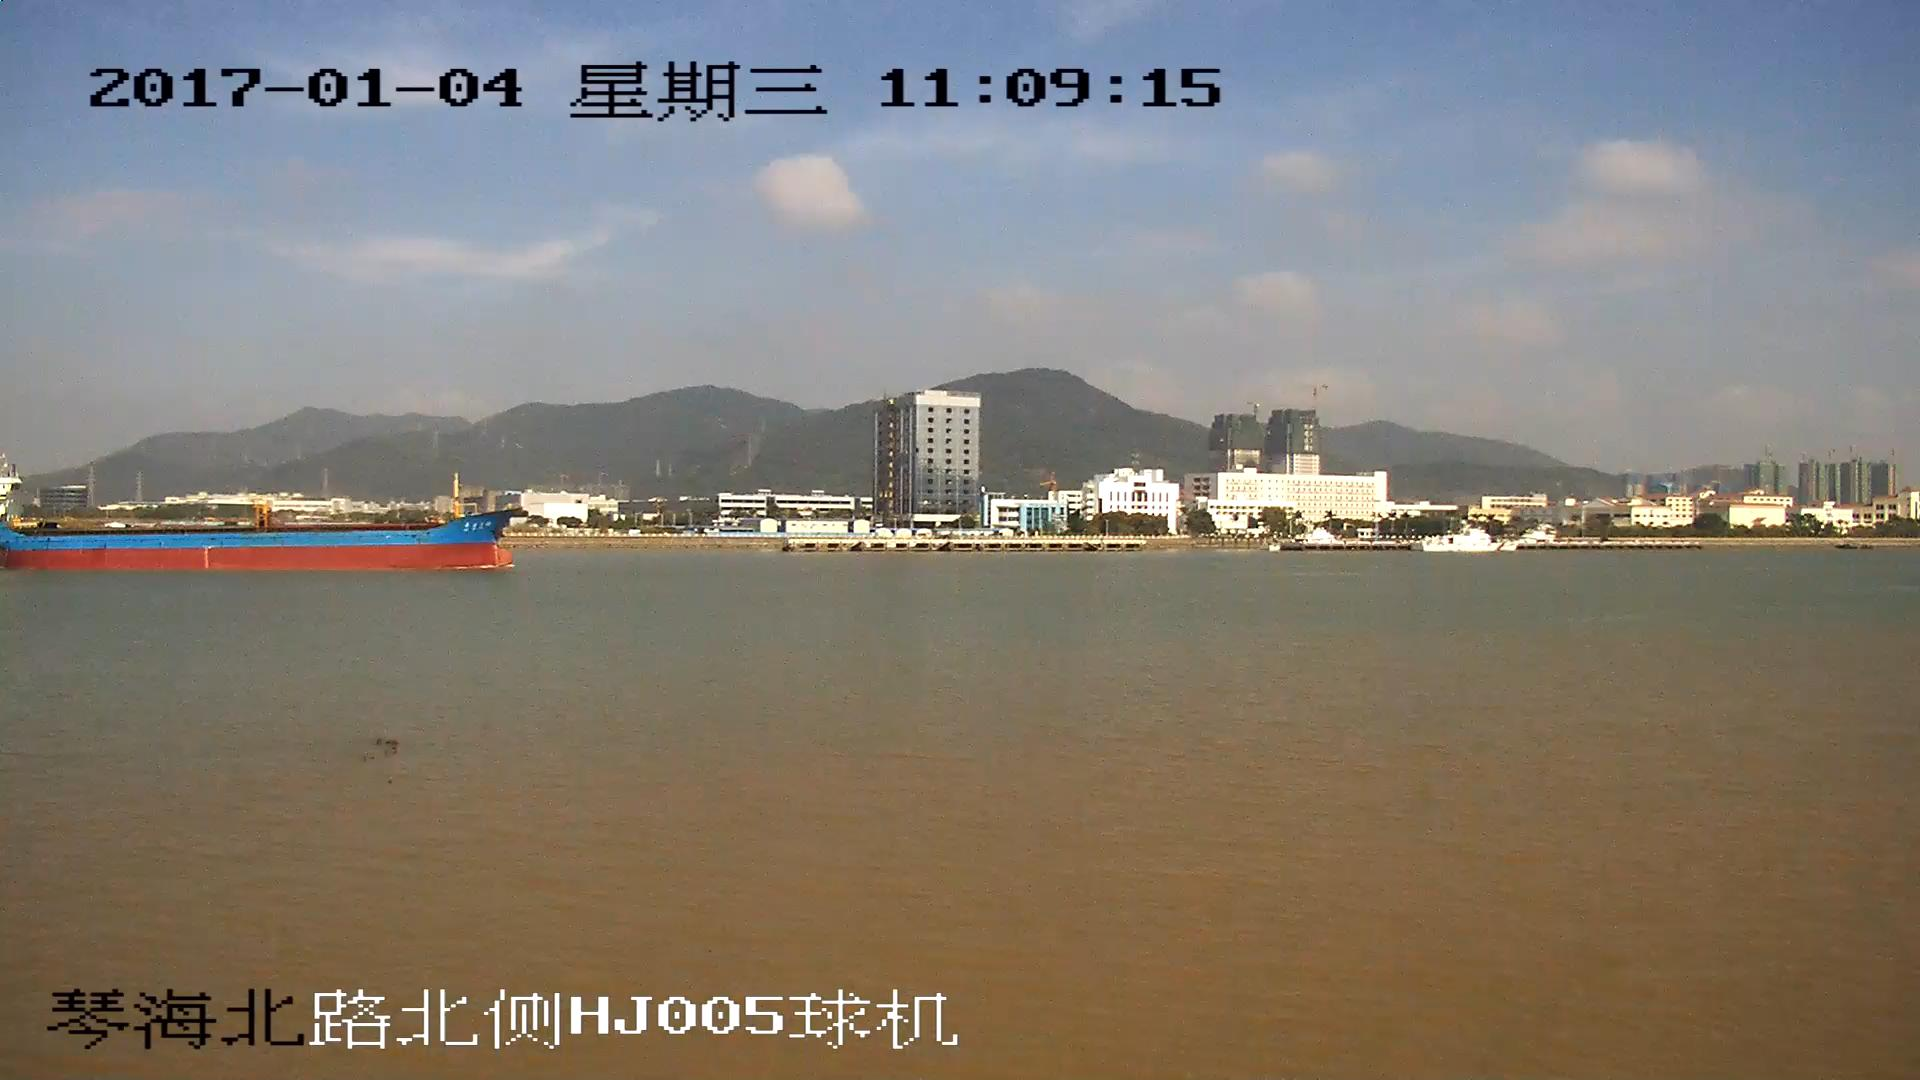general cargo ship: (1, 467, 520, 576)
